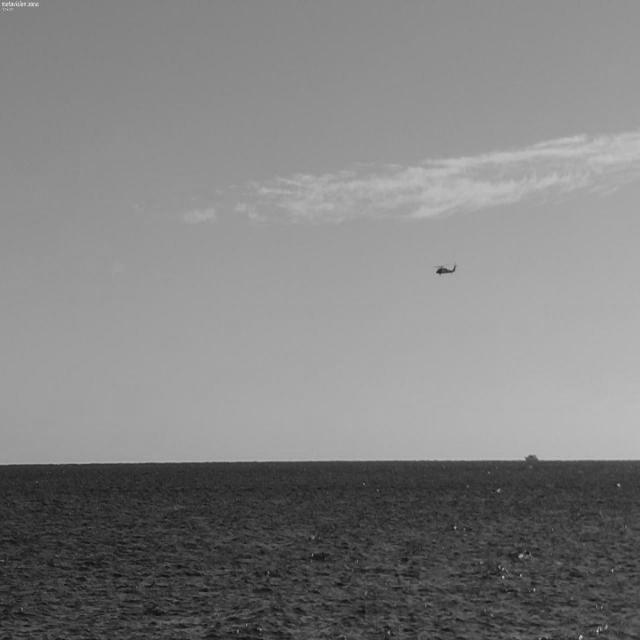helikopter: (408, 234, 494, 308)
